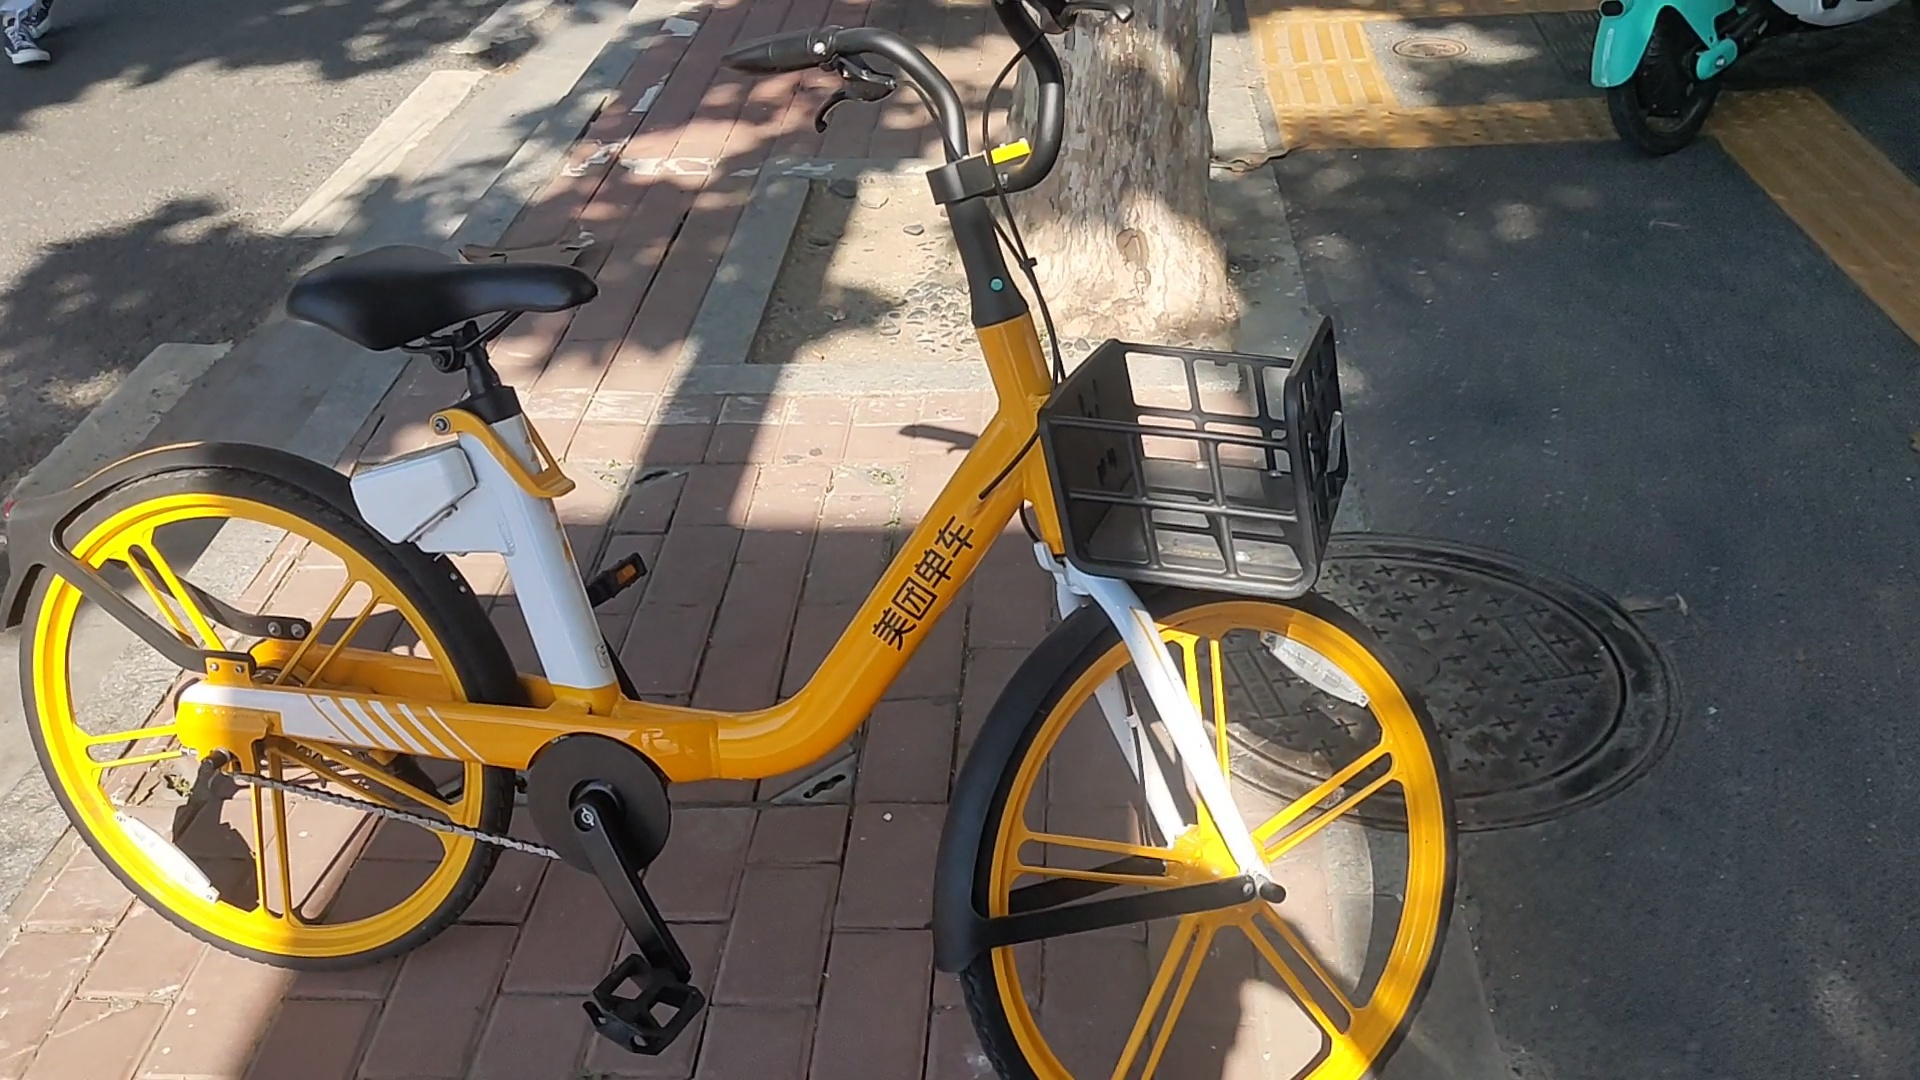non-vehicle: (32, 0, 1462, 1080), (1585, 0, 1917, 156)
